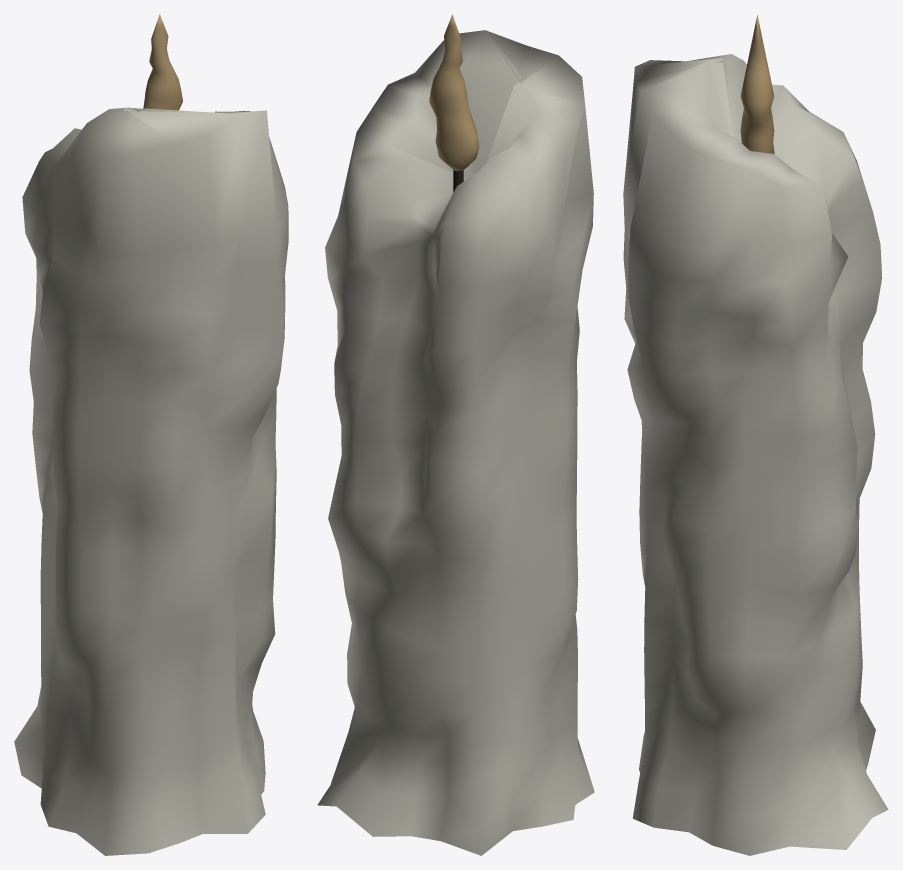
File: CandleB.fbx
3 views of the same model, side by side, from view 1: azimuth 30°, elevation 25°; view 2: azimuth 150°, elevation 25°; view 3: azimuth 270°, elevation 25° (orthographic).
Visible parts, largest first — view 1: Candle; view 2: Candle; view 3: Candle.
Part boxes in pixels (x1,y1,x2,y2): Candle: (14,14,288,855); Candle: (317,14,594,855); Candle: (623,14,888,855).
Bounding box in the file's own units: 4.32 × 13.89 × 4.2.
